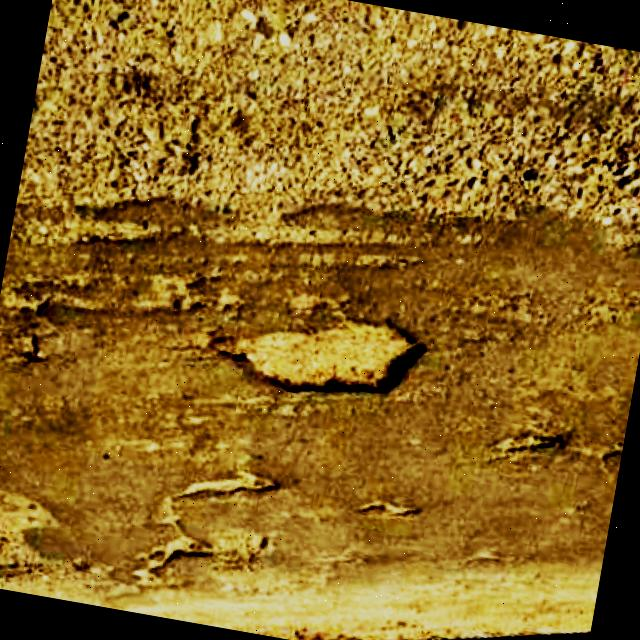pothole: (208, 285, 438, 420), (152, 451, 288, 580)
